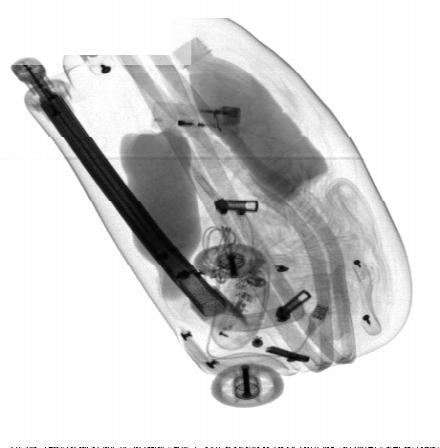Lighter: (152, 101, 242, 133)
